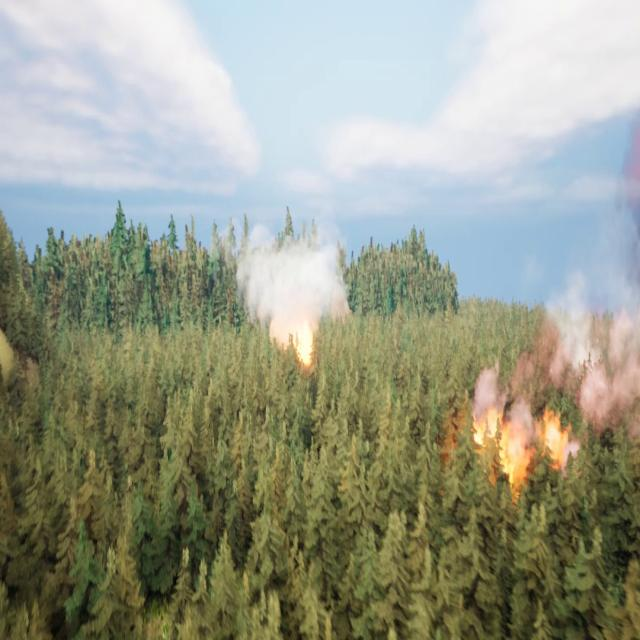fire: (471, 404, 572, 490), (296, 325, 315, 366)
smoke: (467, 107, 640, 454), (220, 225, 350, 356)
